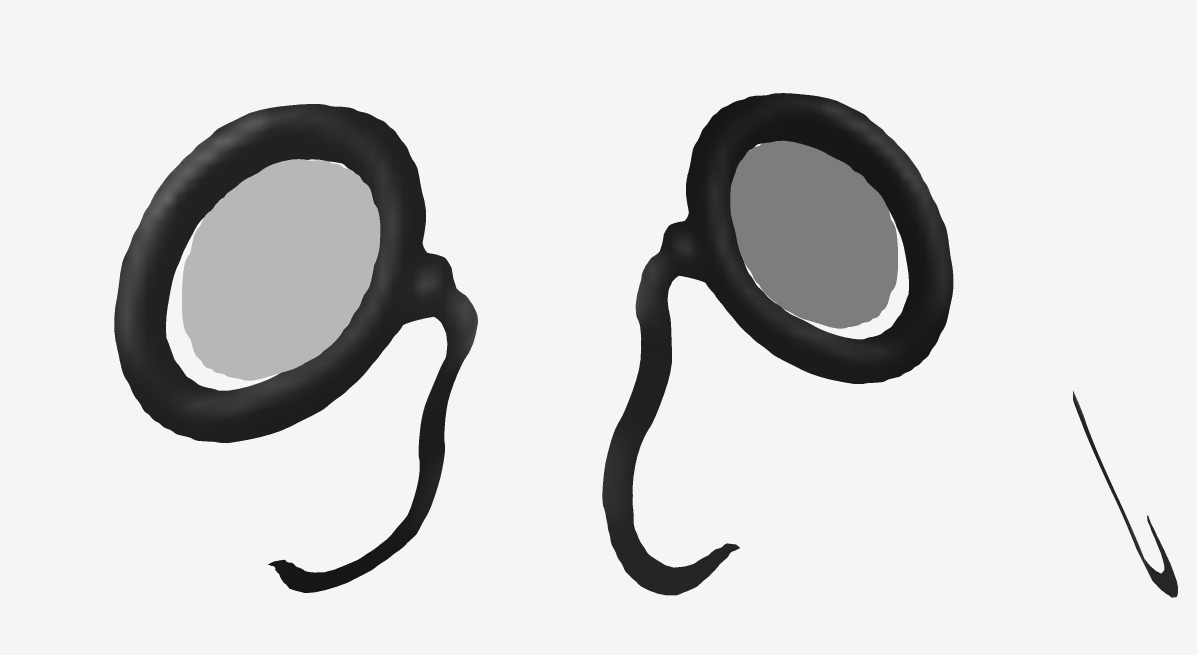
File: Cat Prop Monocle.FBX
3 views of the same model, side by side, from view 1: azimuth 30°, elevation 25°; view 2: azimuth 150°, elevation 25°; view 3: azimuth 270°, elevation 25° (orthographic). The views are drawn at different scales.
Parts seen in each view (by area): view 1: Cat Prop Monocle, Cat Prop Monocle Shine; view 2: Cat Prop Monocle, Cat Prop Monocle Shine; view 3: Cat Prop Monocle.
Part boxes in pixels (x1,y1,x2,y2): Cat Prop Monocle: [114, 104, 477, 592]; Cat Prop Monocle Shine: [182, 159, 380, 380]; Cat Prop Monocle: [602, 93, 953, 595]; Cat Prop Monocle Shine: [730, 140, 897, 328]; Cat Prop Monocle: [1073, 391, 1177, 597].
Bounding box in the file's own units: 39.49 × 9.36 × 47.94.
